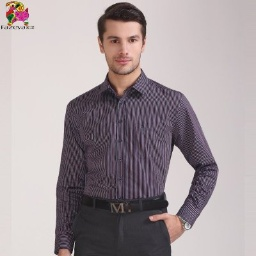face: (97, 1, 148, 76)
